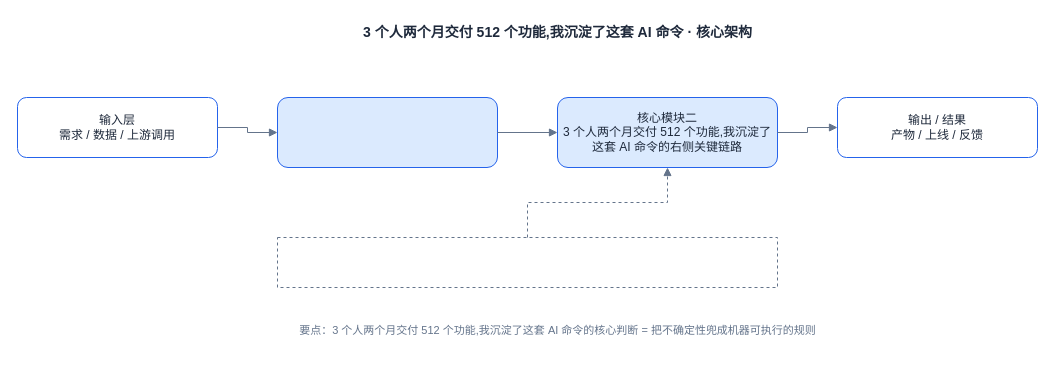
The diagram is 1055 pixels wide and 369 high, and some of its shapes have lost their labels. Here are the shapes that lost their labels. From the top down, the box of each, then its label:
(276, 96, 498, 168): 核心模块一 3 个人两个月交付 512 个功能,我沉淀了这套 AI 命令的左侧关键链路
(276, 236, 778, 288): 兜底层 质量 / 安全 / 监控 / 评审
